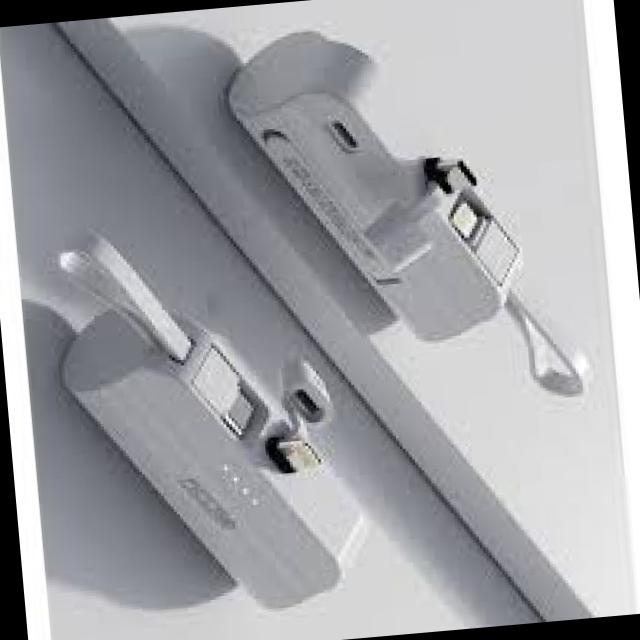power_bank: (215, 11, 531, 362), (52, 285, 374, 629)
